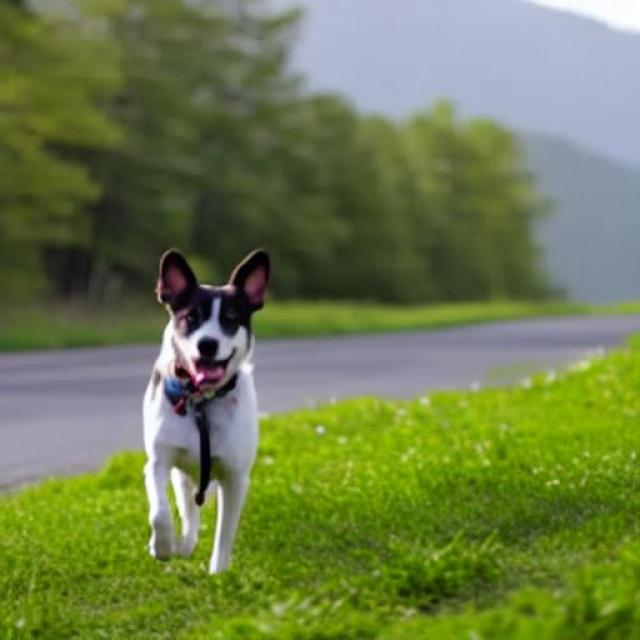Dog: (142, 248, 272, 578)
